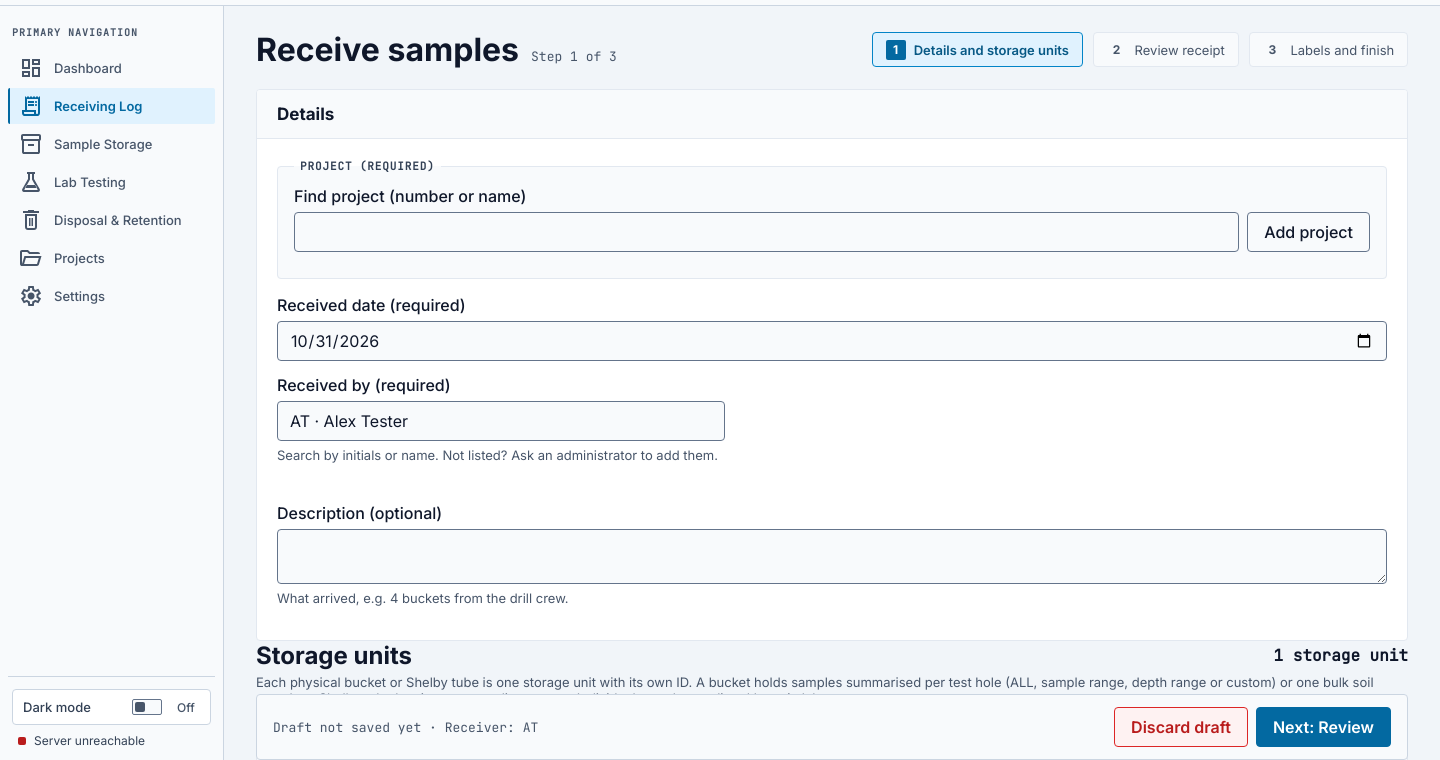
Test: MM-T36 receiving wizard › Alt+N still adds a bucket and goes to its test hole search, past the new holder controls
This screenshot has width=1440, height=760.
Step 1. Type "river" into the dropdown labelled "Find project (number or name)" → (767, 232), box [294, 212, 1239, 252]
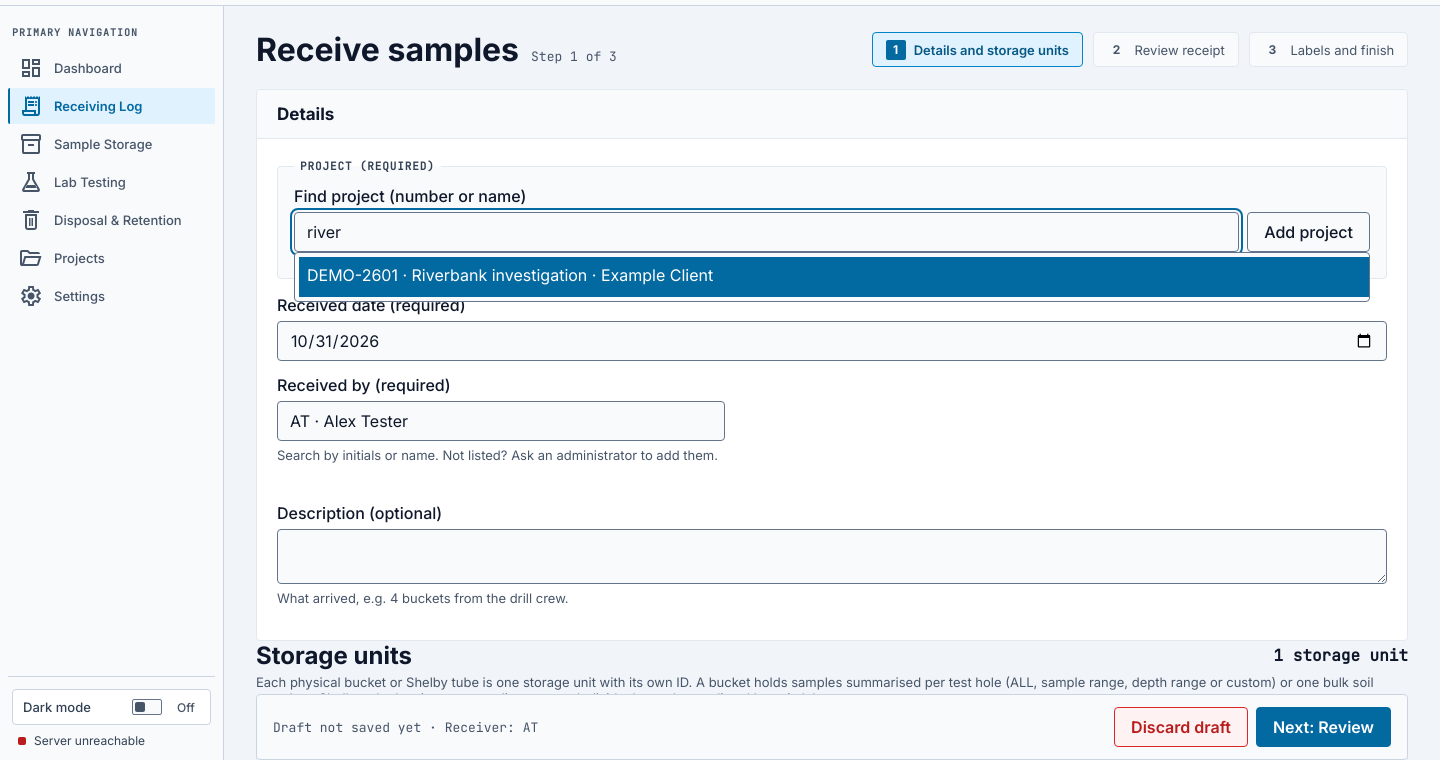
Step 2. Click the option "DEMO-2601 · Riverbank investigation · Example Client" → (510, 275), box [295, 257, 1369, 297]
(page scrolled)
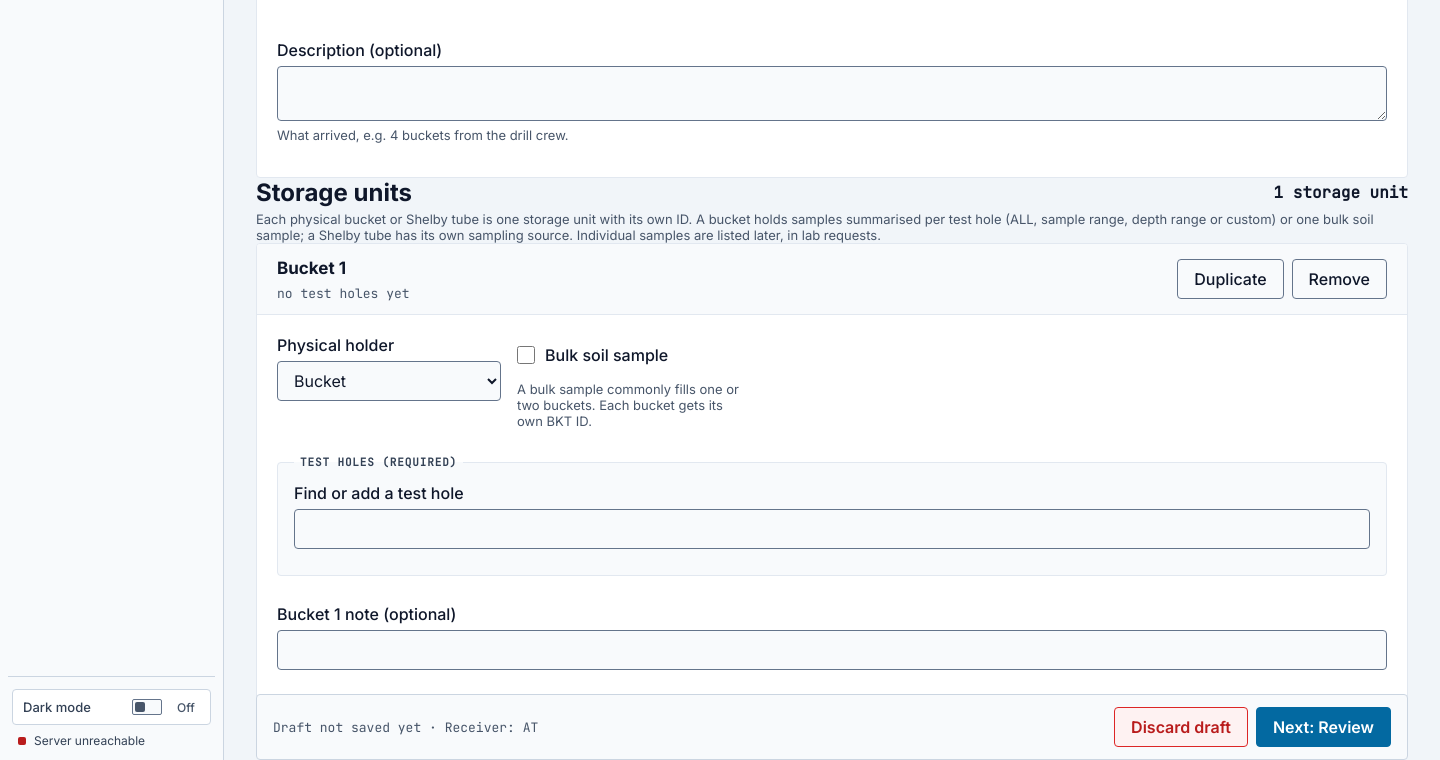
Step 3. Click the checkbox labelled "Bulk soil sample" → (526, 355), box [517, 335, 535, 375]
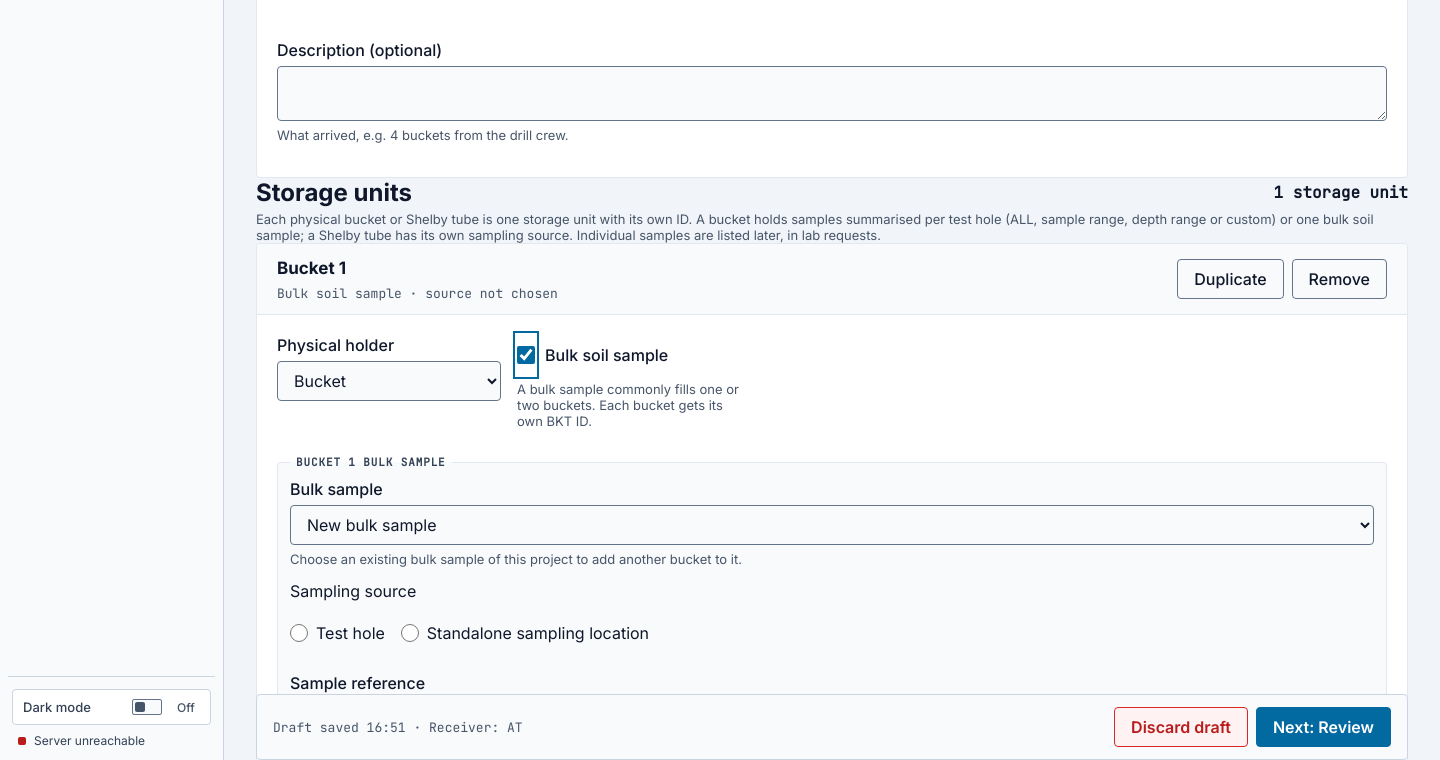
Step 4. Type keys "{Alt>}n{/Alt}"
(page scrolled)
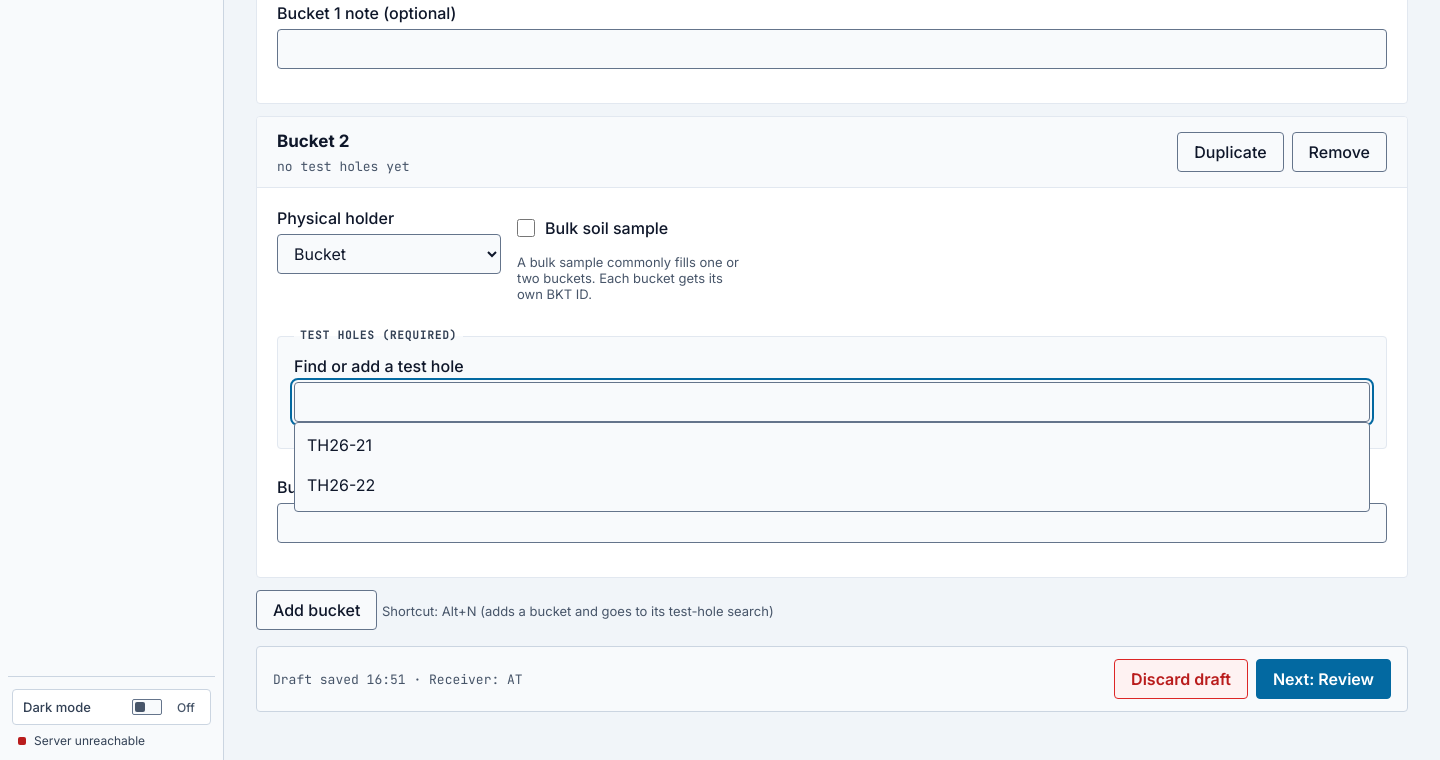
Now the dropdown labelled "Physical holder" shows "Bucket", box [277, 234, 501, 274]
Now the checkbox labelled "Bulk soil sample" is not checked, box [517, 208, 535, 248]
